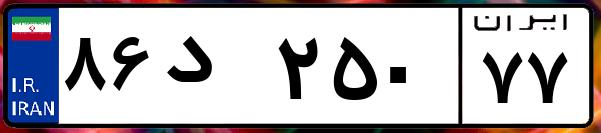0: (385, 28, 445, 110)
2: (270, 28, 330, 110)
5: (330, 28, 385, 110)
6: (110, 28, 158, 98)
7: (475, 38, 525, 113), (525, 38, 570, 115)
8: (57, 26, 110, 100)
د: (158, 20, 270, 120)
